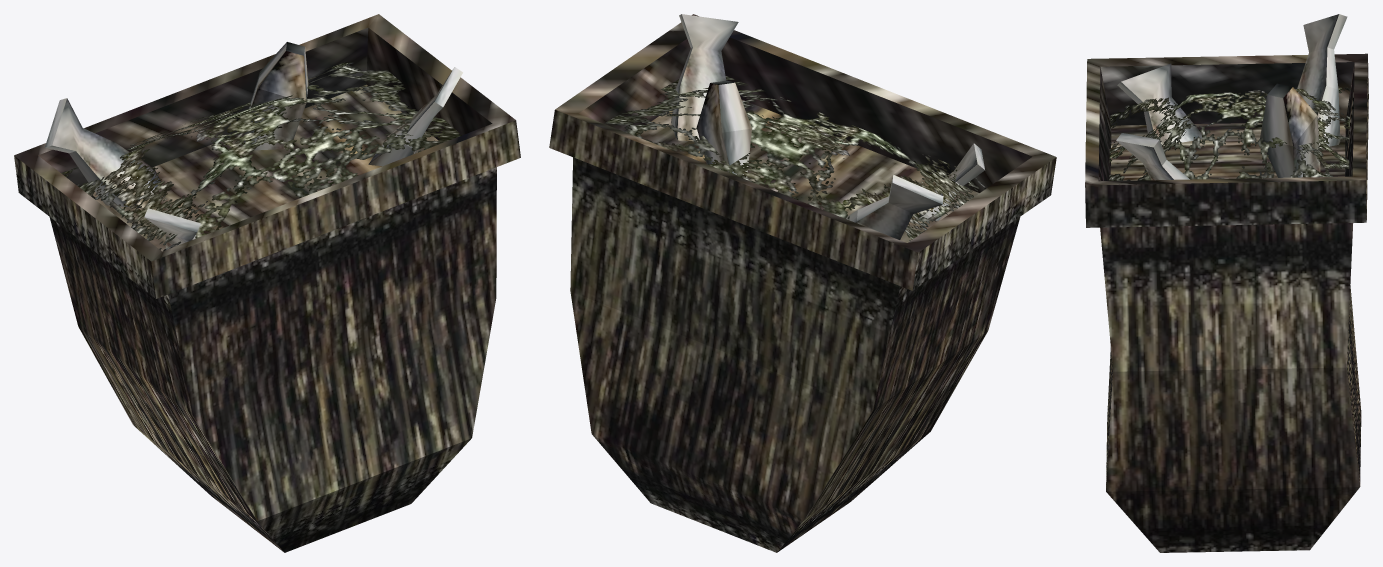
Rendered from STATIC_KRYBY_FIX.glb.
3 views of the same model, side by side, from view 1: azimuth 30°, elevation 25°; view 2: azimuth 150°, elevation 25°; view 3: azimuth 270°, elevation 25° (orthographic).
Visible parts, largest first — view 1: STATIC_KRYBY_FIX; view 2: STATIC_KRYBY_FIX; view 3: STATIC_KRYBY_FIX.
Boxes of the visible parts, x1,y1,x2,y2 form: STATIC_KRYBY_FIX: (14,14,520,552); STATIC_KRYBY_FIX: (549,14,1056,552); STATIC_KRYBY_FIX: (1085,14,1368,552).
Size of the model in its own units: 0.4361 by 0.5044 by 0.2847.
3 materials, 3 textured.
